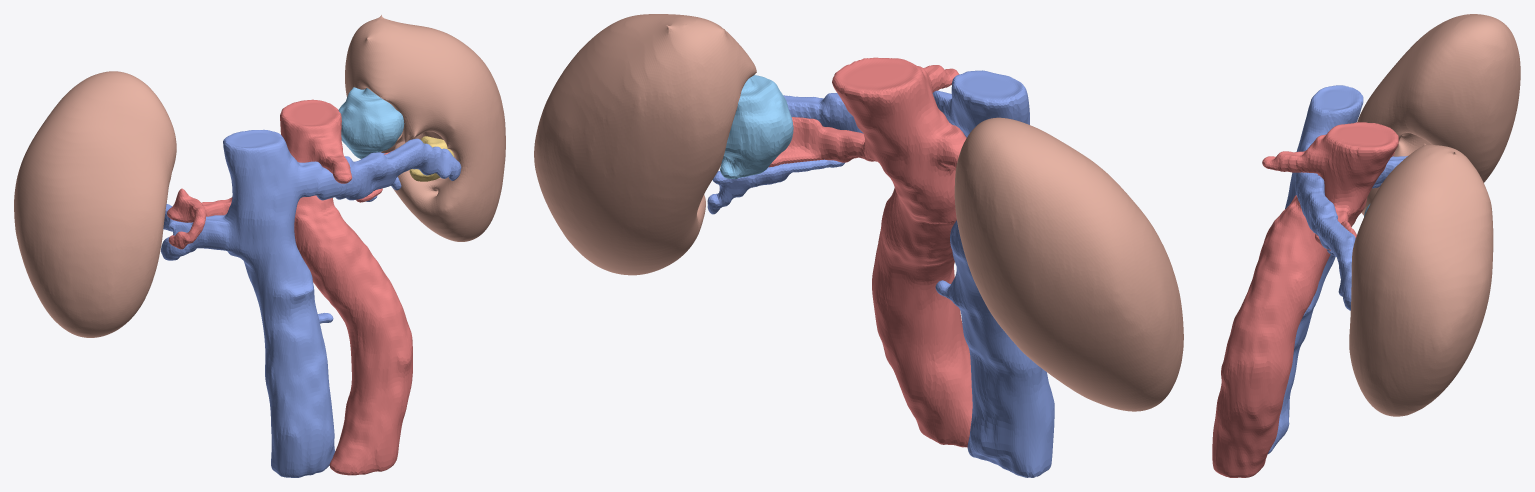
The model's file is Model_1_smoothed.glb.
The picture shows the model from 3 angles, left to right: view 1: azimuth 30°, elevation 25°; view 2: azimuth 150°, elevation 25°; view 3: azimuth 270°, elevation 25°; orthographic projection. The views are drawn at different scales.
Visible parts, largest first — view 1: Kidney, Veins, Artery, Cystic; view 2: Kidney, Artery, Veins, Cystic; view 3: Kidney, Artery, Veins.
Part boxes in pixels (bbox=[...]): Kidney: bbox=[14, 15, 505, 337]; Veins: bbox=[161, 129, 461, 477]; Artery: bbox=[167, 99, 412, 475]; Cystic: bbox=[338, 87, 404, 158]; Kidney: bbox=[534, 14, 1183, 411]; Artery: bbox=[768, 57, 972, 447]; Veins: bbox=[707, 70, 1054, 477]; Cystic: bbox=[720, 75, 793, 178]; Kidney: bbox=[1349, 14, 1520, 416]; Artery: bbox=[1212, 122, 1398, 477]; Veins: bbox=[1268, 85, 1407, 453].
Bounding box in the file's own units: 220 × 157 × 117.
